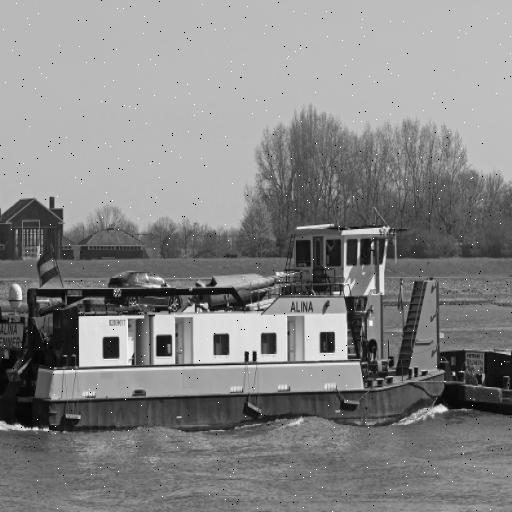tugboat: (1, 217, 452, 459)
